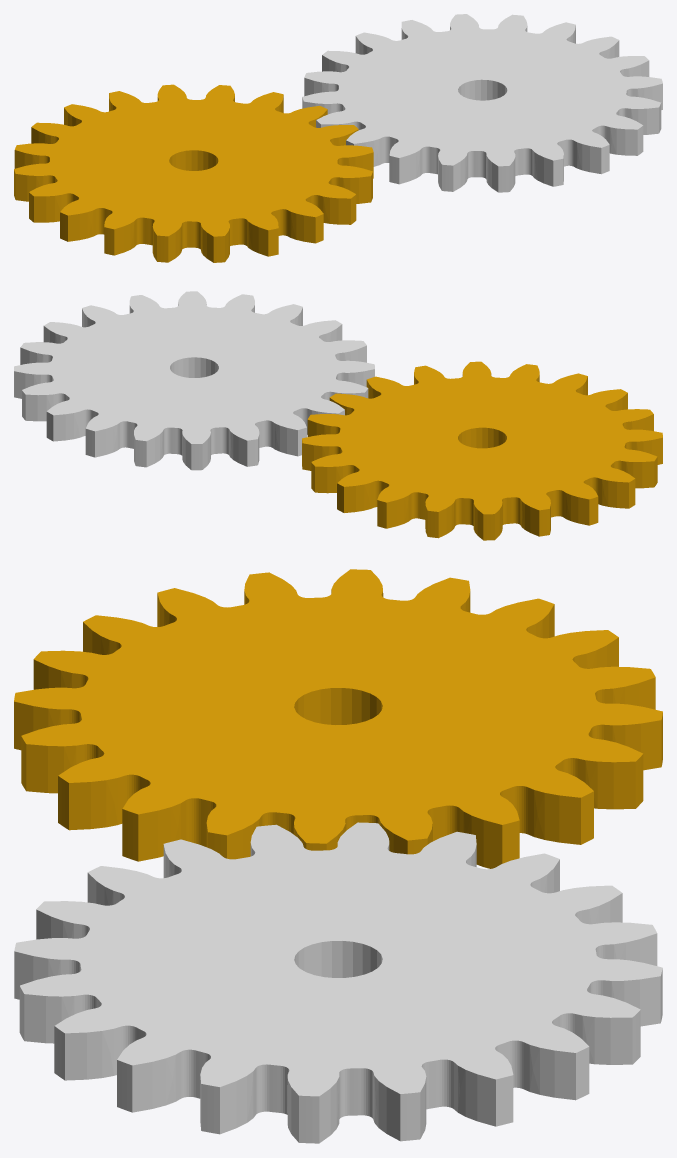
The model's file is gear20_2gear.gltf.
3 renders of one model, top to bottom at view 1: azimuth 30°, elevation 25°; view 2: azimuth 150°, elevation 25°; view 3: azimuth 270°, elevation 25°, orthographic. The views are drawn at different scales.
Visible parts, largest first — view 1: Gear01, Gear01.001; view 2: Gear01, Gear01.001; view 3: Gear01.001, Gear01.
Part boxes in pixels (box(x1,y1,x2,y2)): Gear01: box(14, 84, 373, 262); Gear01.001: box(302, 14, 662, 192); Gear01: box(302, 361, 662, 540); Gear01.001: box(14, 291, 374, 470); Gear01.001: box(14, 822, 662, 1143); Gear01: box(14, 569, 662, 868).
Bounding box in the file's own units: 42.25 × 1.76 × 21.99.
